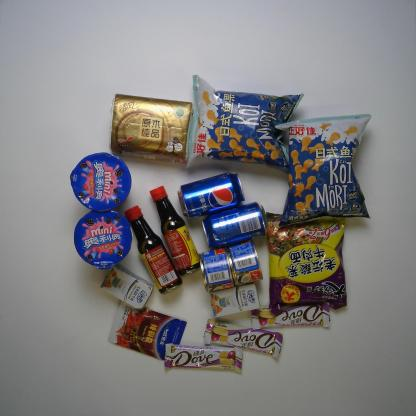Canned Food: (197, 245, 236, 295), (226, 236, 263, 287)
Chocolate: (198, 315, 286, 358), (160, 338, 244, 374), (247, 296, 336, 329)
Dessert: (67, 145, 132, 213), (72, 206, 138, 268)
Drink: (202, 196, 276, 250), (175, 168, 249, 220)
Instant Noodles: (259, 205, 354, 316)
Milk: (98, 260, 155, 310), (206, 277, 260, 320)
Puffed Food: (182, 72, 316, 174), (271, 113, 374, 227)
Seasoner: (105, 296, 188, 366), (125, 200, 184, 296), (148, 184, 200, 276)
Tissue: (108, 90, 193, 165)
